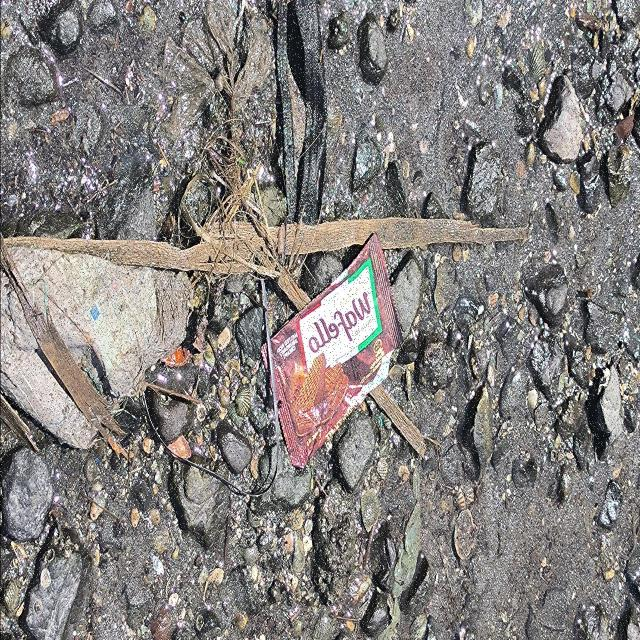plastic_waste: (267, 230, 406, 472)
